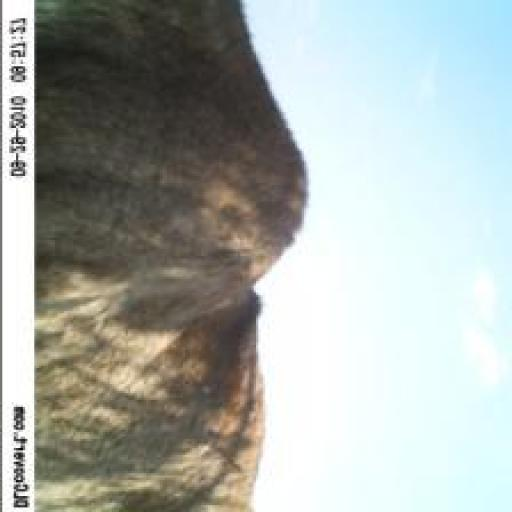lion: (28, 2, 330, 510)
